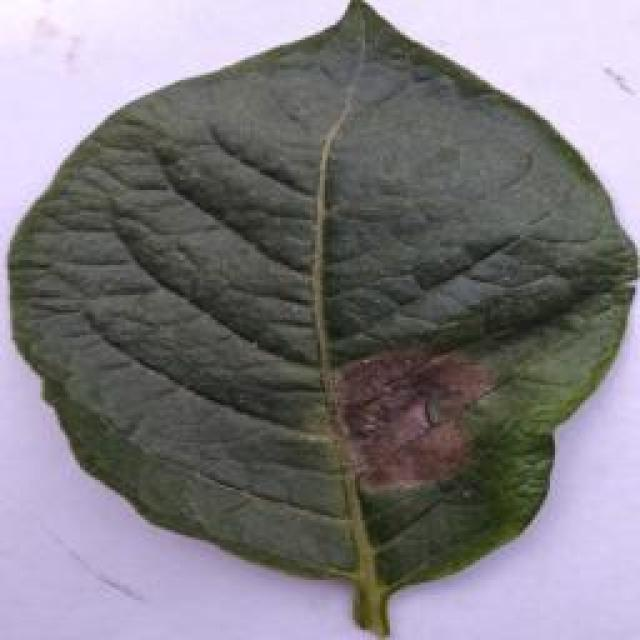Potato_Late_Blight: (6, 9, 638, 632)
